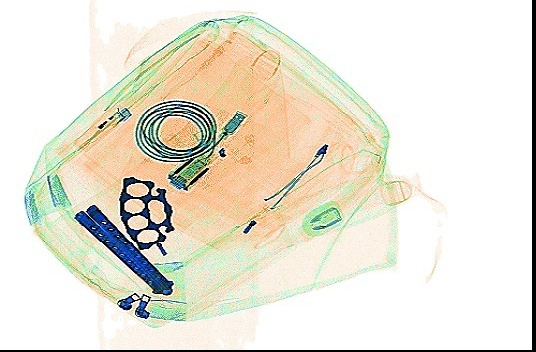knife: (72, 202, 174, 294)
lighter: (70, 105, 132, 151)
